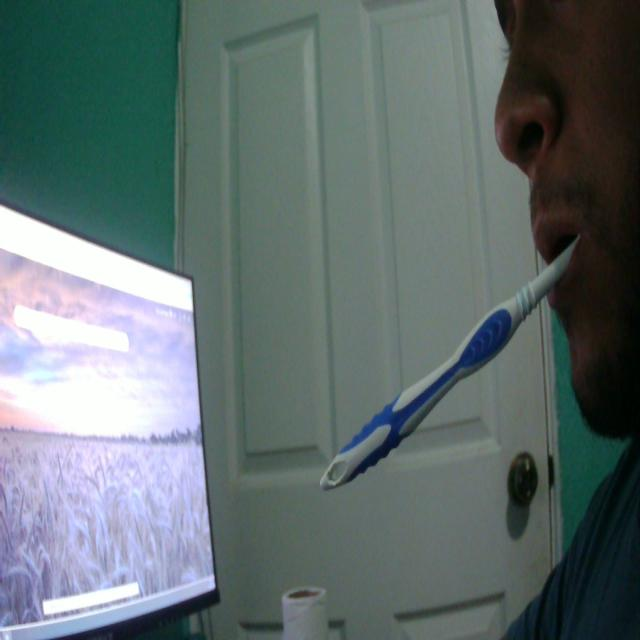Organico: (312, 237, 582, 516)
